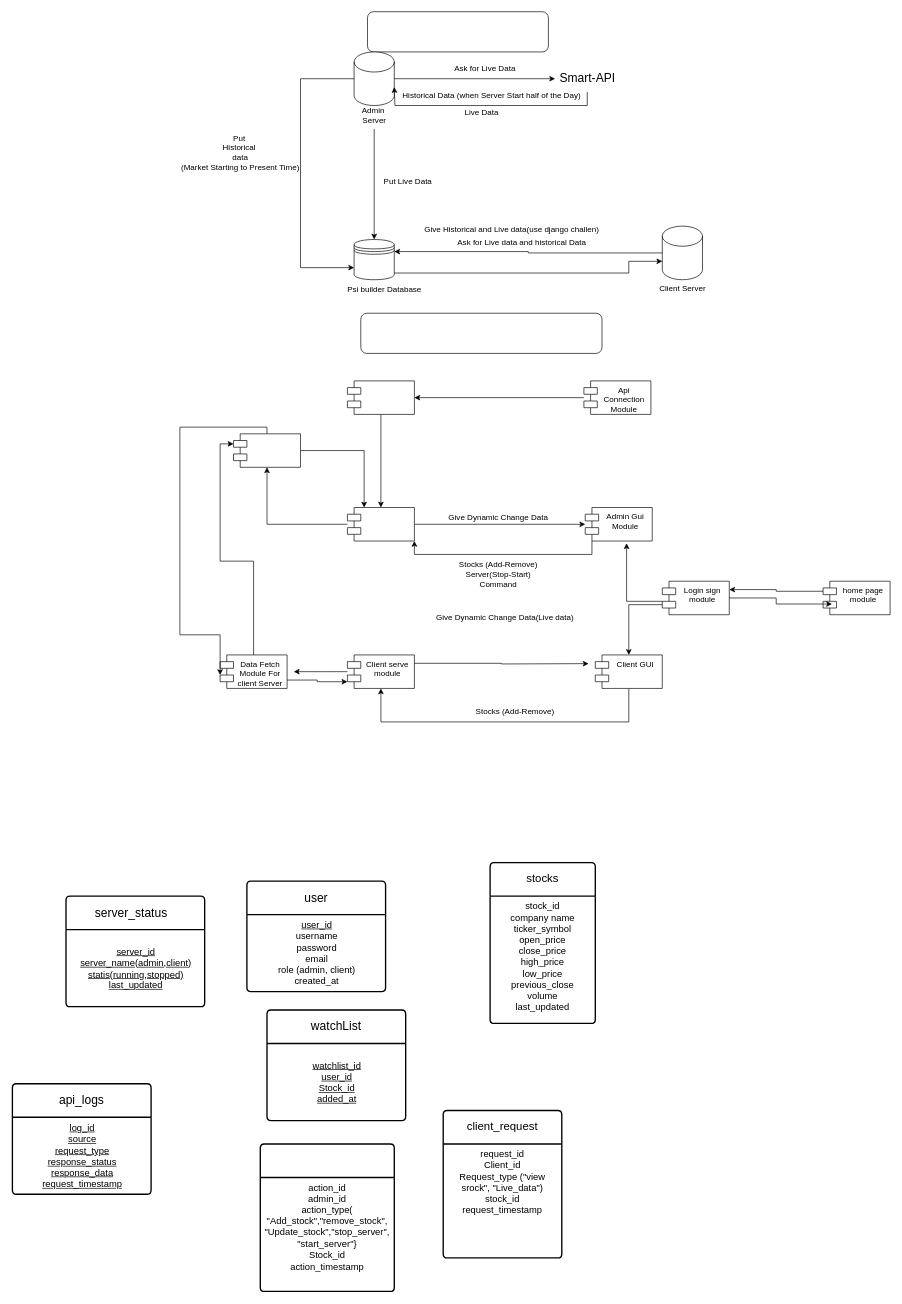
Some shapes in this 902 by 1304 pixel diagram are drawn without their labels. Here are the shapes that lost their labels. From the top down, the box of each, then its label:
(367, 11, 548, 52): Data Flow diagram
(360, 313, 602, 353): Module Hierarchy diagram
(347, 380, 414, 414): Data Fetch Module For Admin Server
(233, 433, 300, 467): Database manipulation Module
(347, 507, 414, 541): Admin Server Module
(259, 1143, 395, 1292): admin_action
